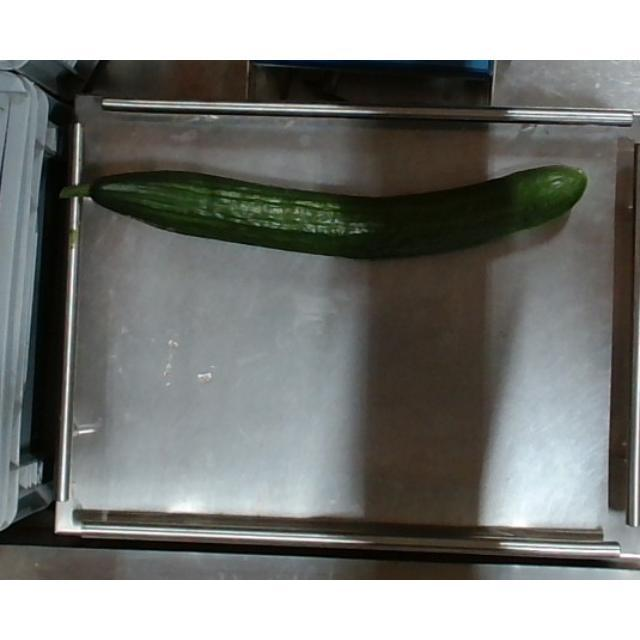cucumber: (65, 164, 585, 260)
